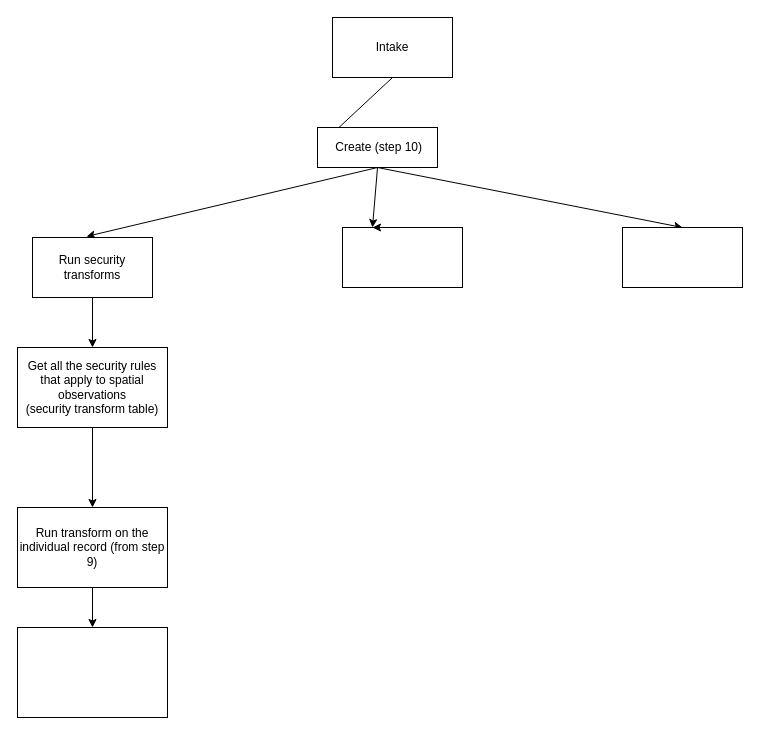
This 760x735 diagram has some shape labels left out. The centre of each missing label's shape, as x and y in pixels:
"Insert submission status (no error)" goes at [402,257].
"Insert submission status and message (if errorerror)" goes at [682,257].
"Update the records based on the submission id" goes at [92,672].
